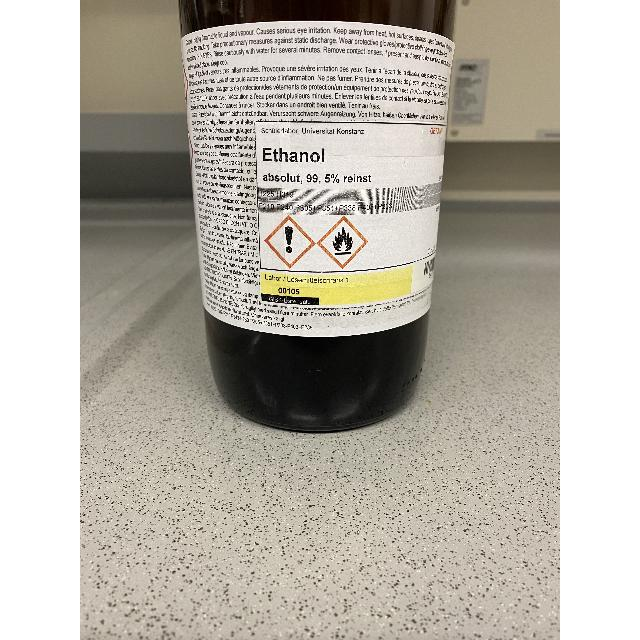flammable: (333, 226, 353, 254)
health-ozone layer hazard: (284, 226, 294, 254)
